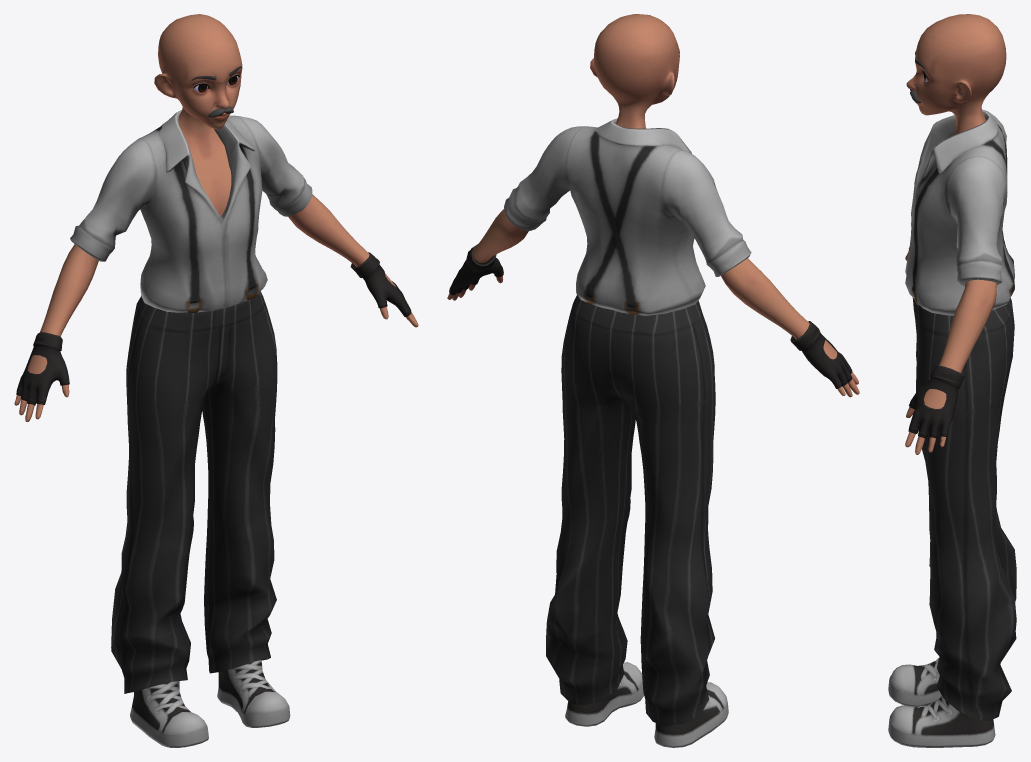
File: StaffBrothers_Mesh.obj
The picture shows the model from 3 angles, left to right: view 1: azimuth 30°, elevation 25°; view 2: azimuth 150°, elevation 25°; view 3: azimuth 270°, elevation 25°; orthographic projection. The views are drawn at different scales.
Visible parts, largest first — view 1: StaffBrothers_Mesh_0; view 2: StaffBrothers_Mesh_0; view 3: StaffBrothers_Mesh_0.
Boxes of the visible parts, <box> form: StaffBrothers_Mesh_0: <box>14,14,418,747</box>; StaffBrothers_Mesh_0: <box>447,14,859,747</box>; StaffBrothers_Mesh_0: <box>888,14,1016,747</box>.
Bounding box in the file's own units: 1.06 × 1.79 × 0.2966.
Materials: 1 (1 with a texture image).
